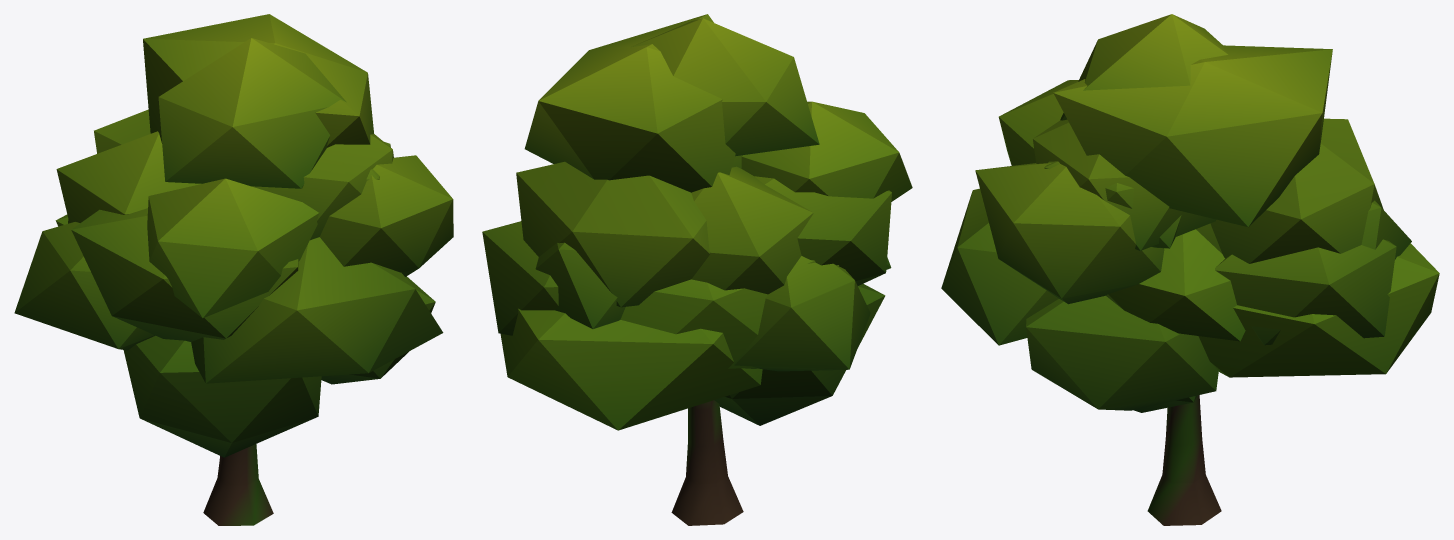
The model's file is bigleaf-maple-b-distant.glb.
3 renders of one model, left to right at view 1: azimuth 30°, elevation 25°; view 2: azimuth 150°, elevation 25°; view 3: azimuth 270°, elevation 25°, orthographic. The views are drawn at different scales.
Visible parts, largest first — view 1: bigleaf-maple-b-distant.Leaves, bigleaf-maple-b-distant.Bark; view 2: bigleaf-maple-b-distant.Leaves, bigleaf-maple-b-distant.Bark; view 3: bigleaf-maple-b-distant.Leaves, bigleaf-maple-b-distant.Bark.
Part boxes in pixels (box(x1,y1,x2,y2)): bigleaf-maple-b-distant.Leaves: box(14, 14, 453, 457); bigleaf-maple-b-distant.Bark: box(203, 444, 273, 525); bigleaf-maple-b-distant.Leaves: box(482, 14, 912, 430); bigleaf-maple-b-distant.Bark: box(671, 400, 743, 525); bigleaf-maple-b-distant.Leaves: box(941, 14, 1439, 412); bigleaf-maple-b-distant.Bark: box(1147, 395, 1221, 525).
Bounding box in the file's own units: 8.95 × 12.01 × 10.8.
